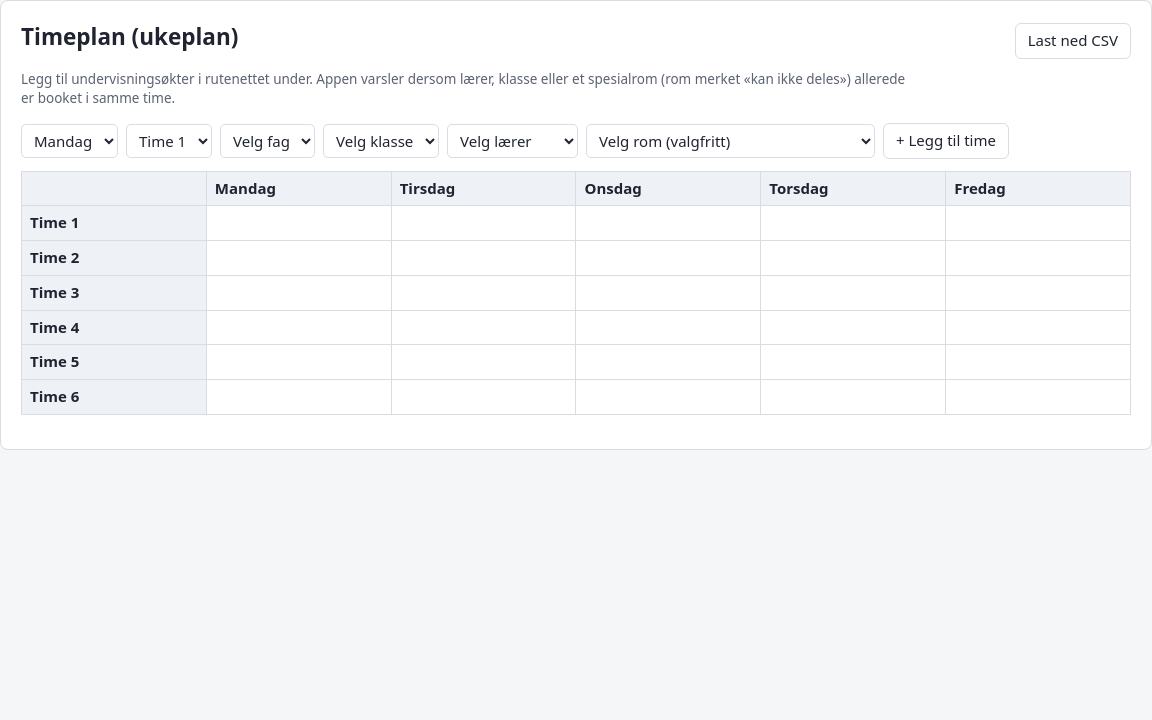
Test: TimeplanPanel › varsler om konflikt ved dobbeltbooking av lærer
Select "Norsk" in the 3rd dropdown at {"x": 268, "y": 141}, box [220,124,315,158]
Select "1A" in the 4th dropdown at {"x": 381, "y": 141}, box [323,124,439,158]
Select "Lærer Larsen" in the 5th dropdown at {"x": 512, "y": 141}, box [447,124,578,158]
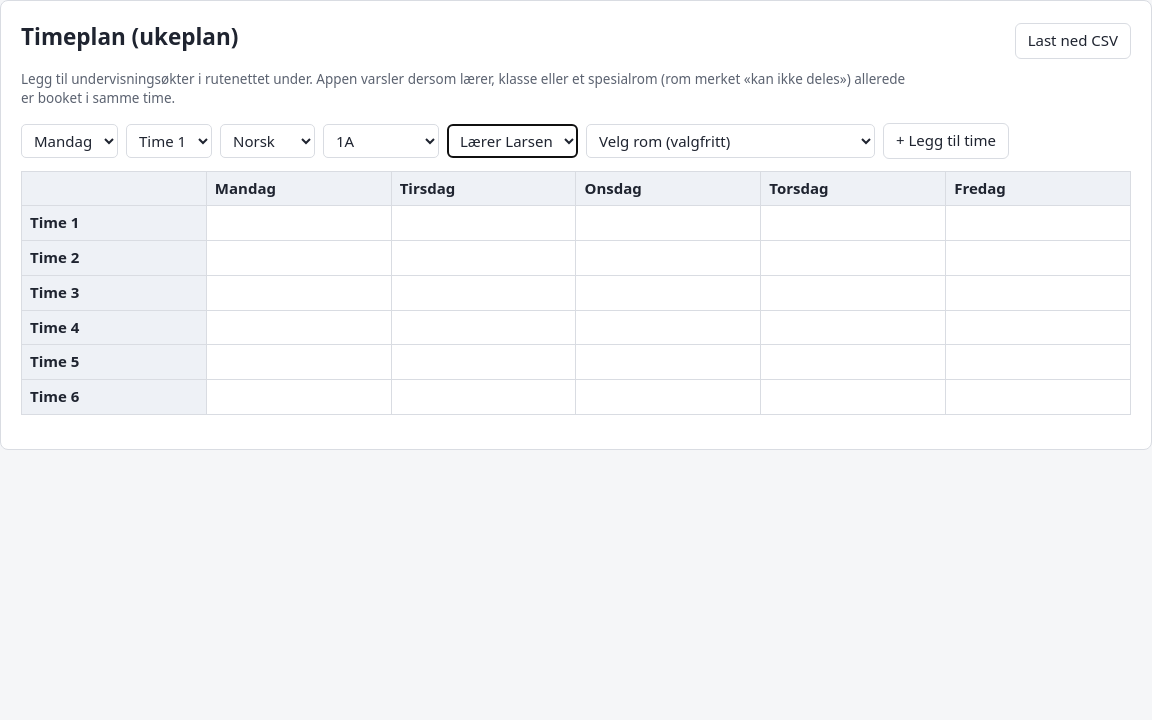
Click the button "+ Legg til time" at {"x": 946, "y": 141}, box [883,123,1009,159]
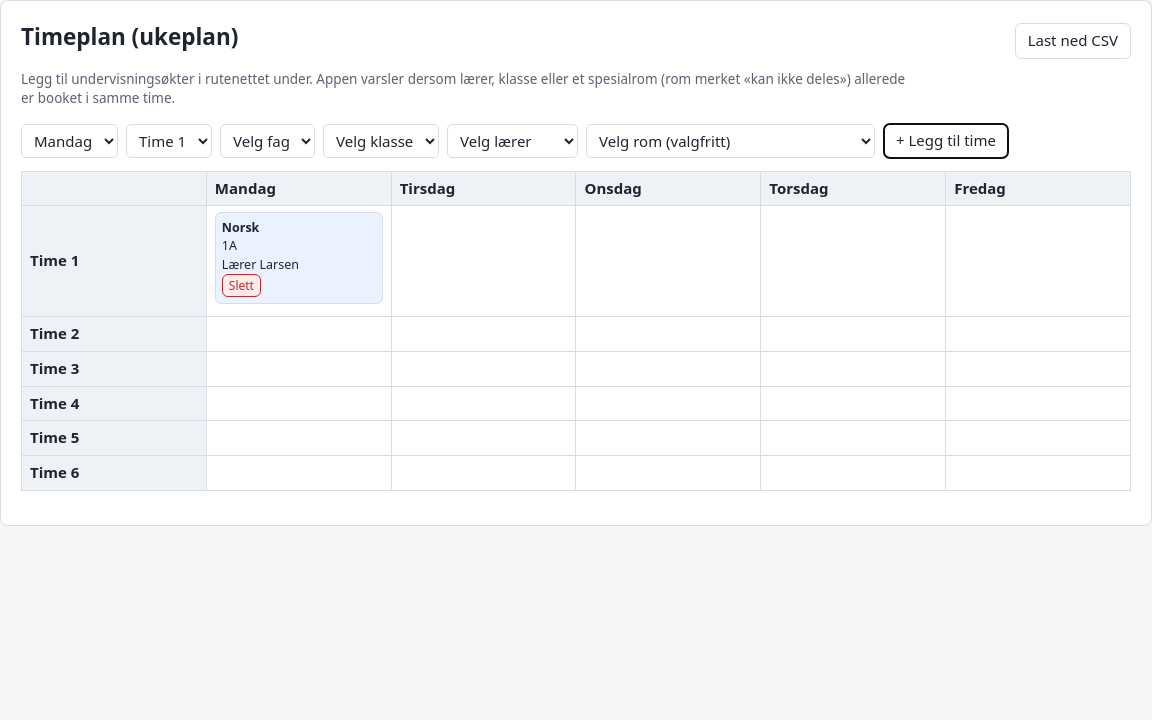
Select "Norsk" in the 3rd dropdown at {"x": 268, "y": 141}, box [220,124,315,158]
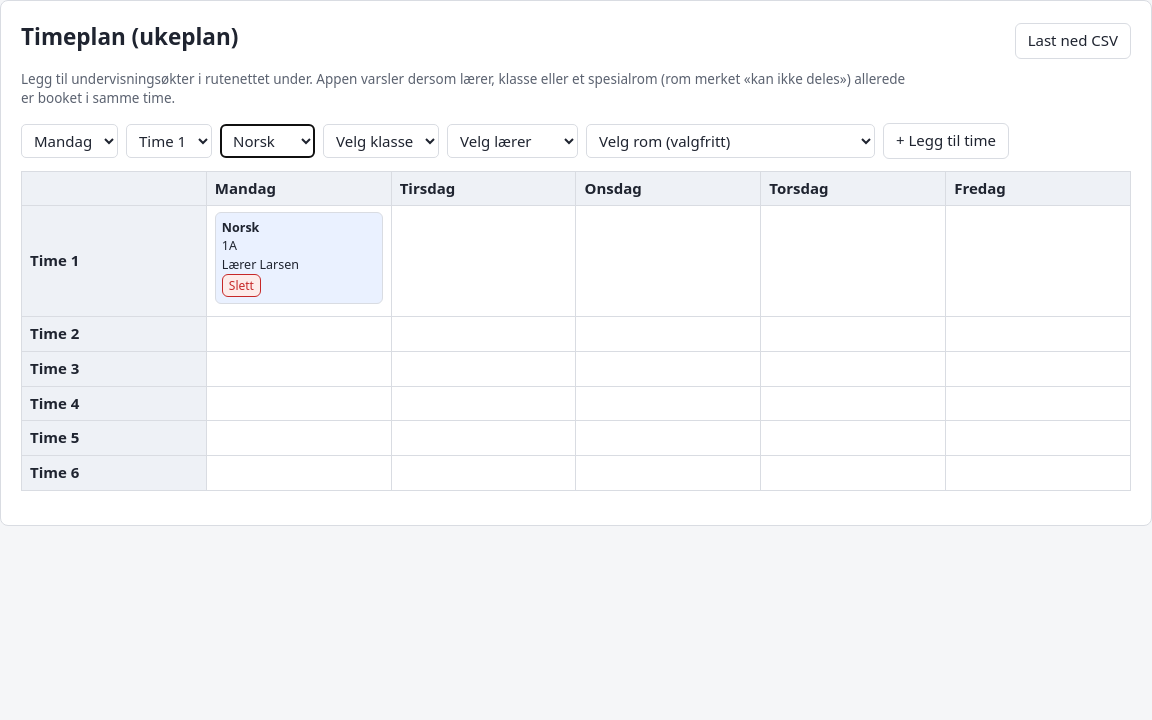
Select "1A" in the 4th dropdown at {"x": 381, "y": 141}, box [323,124,439,158]
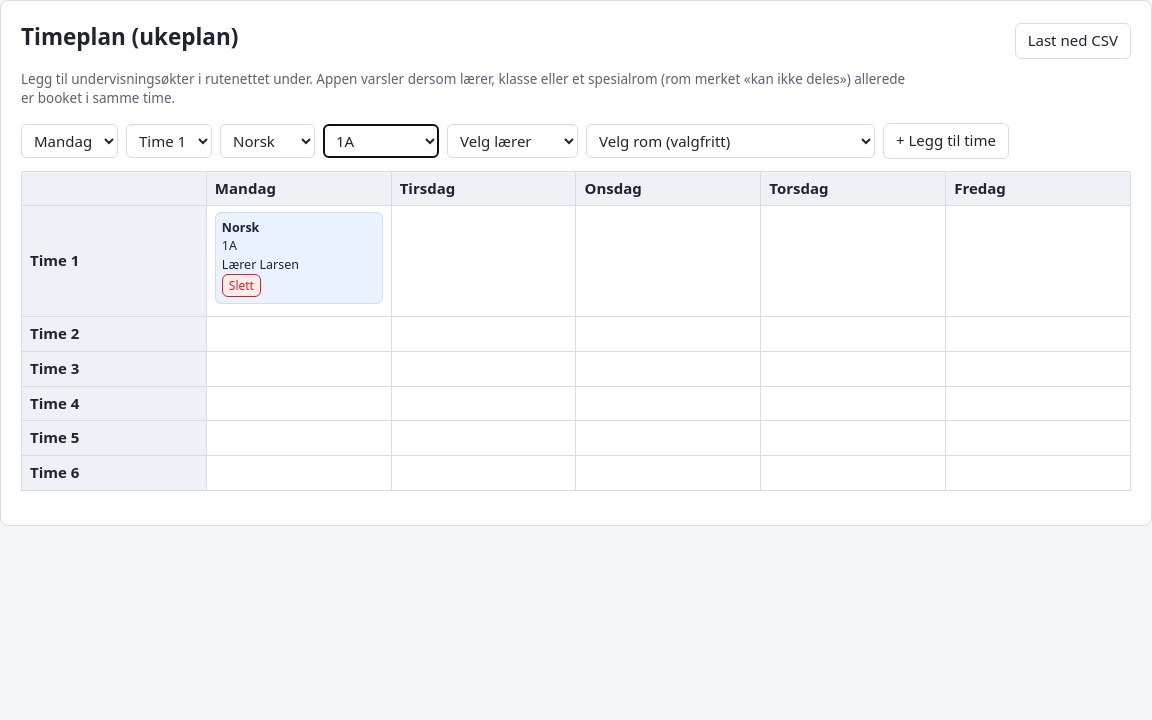
Select "Lærer Larsen" in the 5th dropdown at {"x": 512, "y": 141}, box [447,124,578,158]
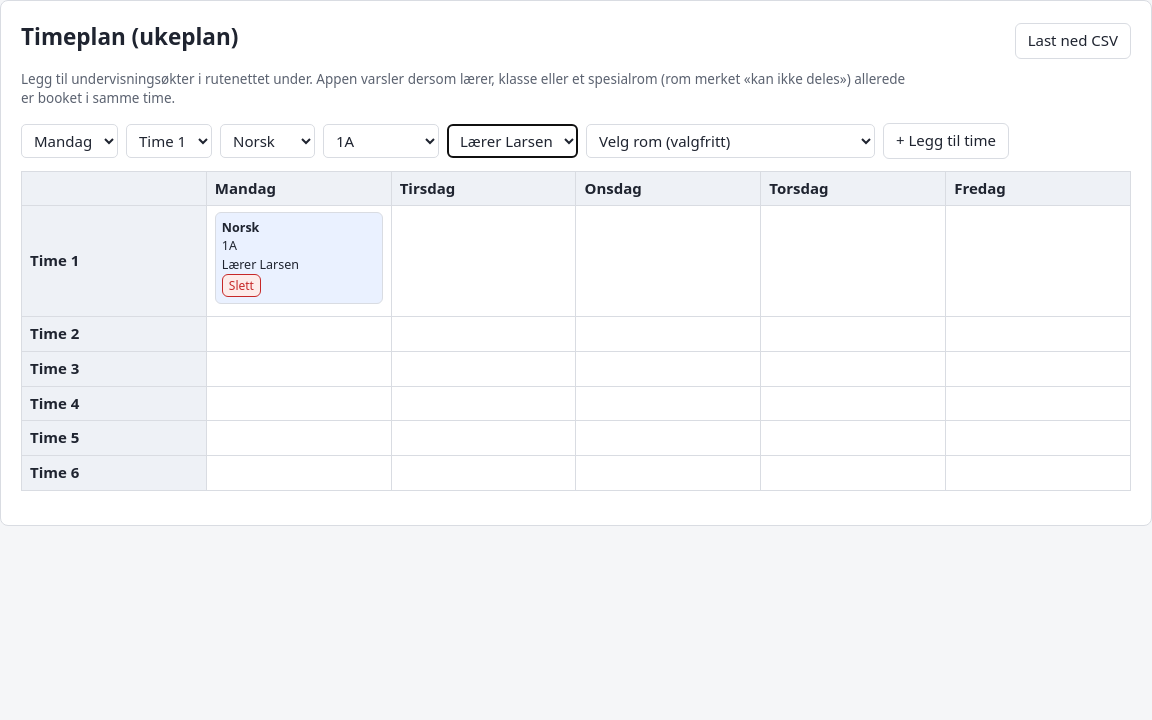
Click the button "+ Legg til time" at {"x": 946, "y": 141}, box [883,123,1009,159]
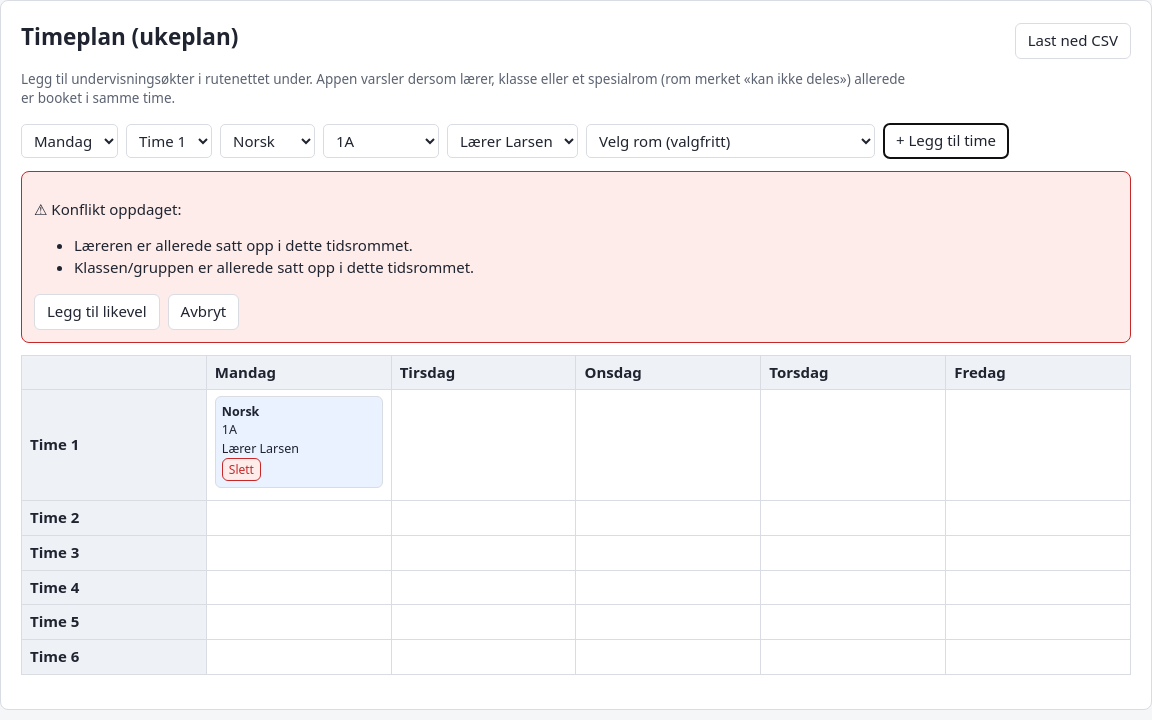
expect the text "⚠ Konflikt oppdaget:" is shown: met, box [34,198,182,218]
expect the list item "Læreren er allerede satt opp i dette tidsrommet." is shown: met, box [74,235,413,255]
